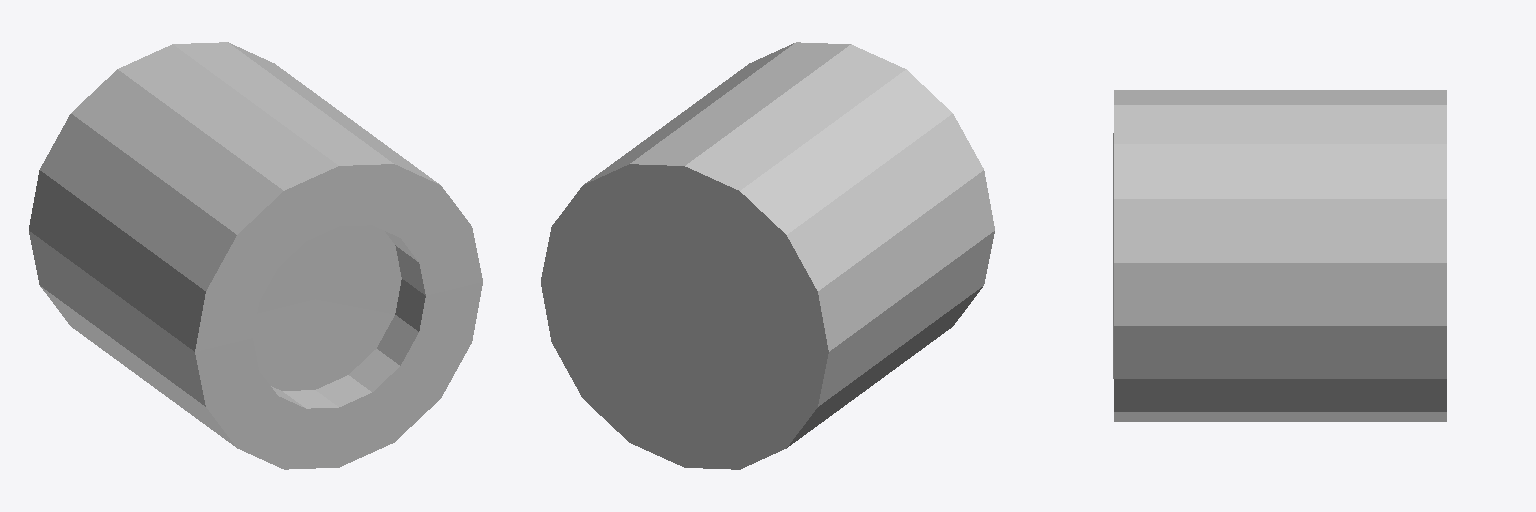
The picture shows the model from 3 angles: view 1: azimuth 30°, elevation 25°; view 2: azimuth 150°, elevation 25°; view 3: azimuth 270°, elevation 25°; orthographic projection.
Visible parts, largest first — view 1: Cube_Cube_None_QuartoPieces.png; view 2: Cube_Cube_None_QuartoPieces.png; view 3: Cube_Cube_None_QuartoPieces.png.
Part boxes in pixels (bbox=[...]): Cube_Cube_None_QuartoPieces.png: bbox=[29, 42, 482, 469]; Cube_Cube_None_QuartoPieces.png: bbox=[541, 42, 994, 469]; Cube_Cube_None_QuartoPieces.png: bbox=[1113, 90, 1446, 421].
Size of the model in its own units: 2 by 2 by 2.